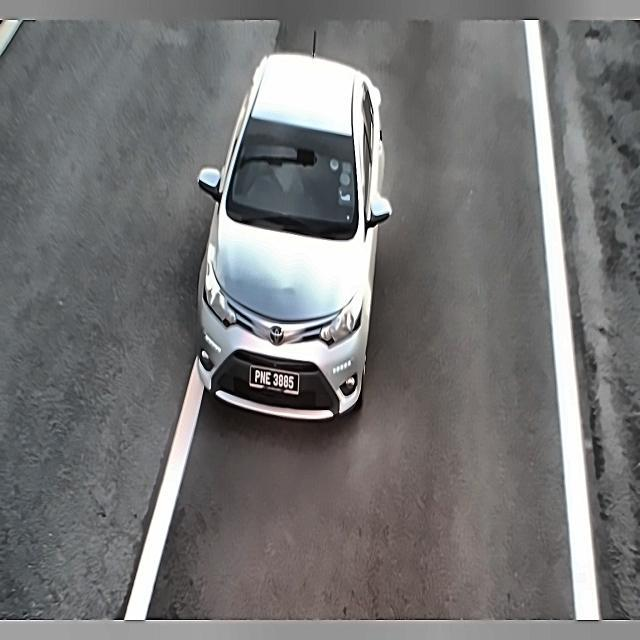car: (245, 361, 308, 400)
